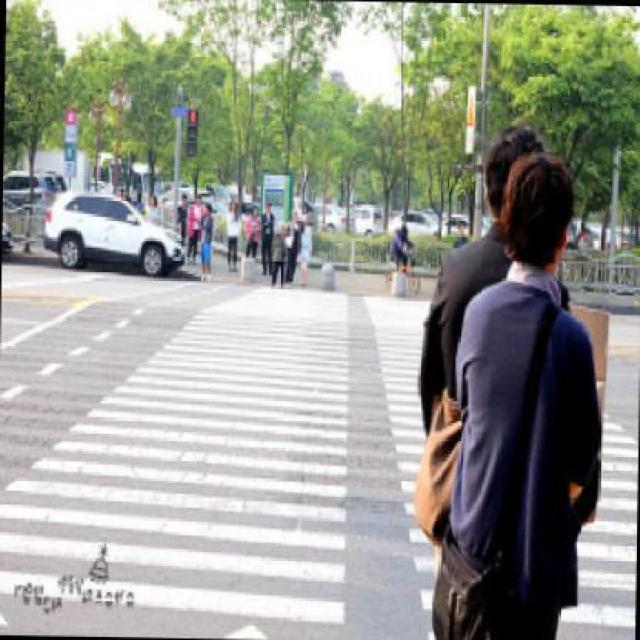Person: (451, 154, 603, 638), (414, 124, 540, 431), (196, 200, 215, 282), (225, 194, 241, 272), (259, 199, 276, 267), (296, 214, 310, 288)
